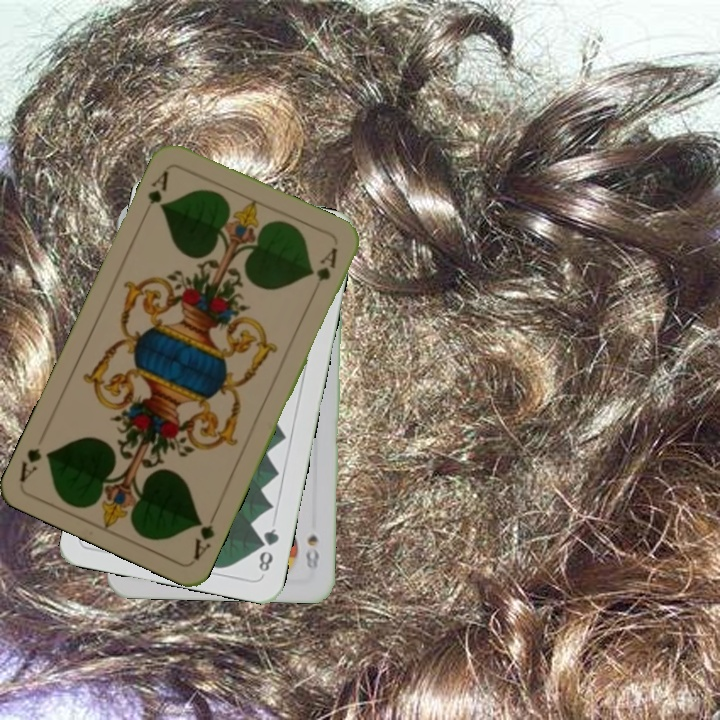G8: (254, 524, 282, 575)
GA: (189, 506, 220, 562), (143, 164, 171, 211)
S8: (301, 530, 321, 572)
